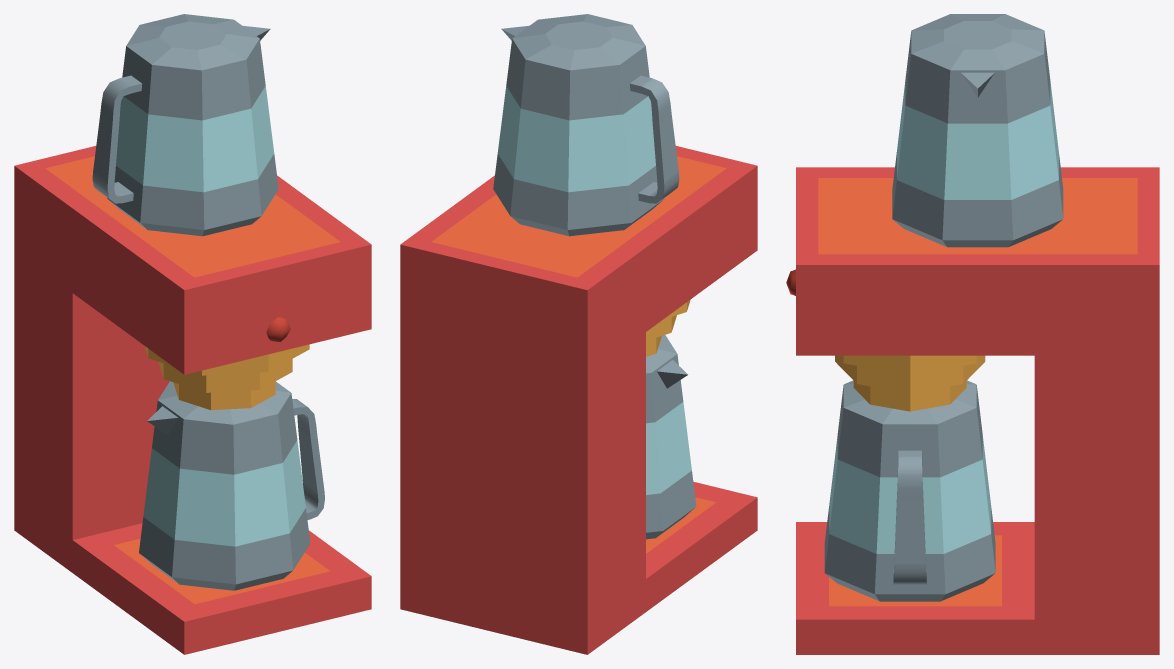
Rendered from Cafe Machine lv2.fbx.
3 renders of one model, left to right at view 1: azimuth 30°, elevation 25°; view 2: azimuth 150°, elevation 25°; view 3: azimuth 270°, elevation 25°, orthographic. The views are drawn at different scales.
Parts seen in each view (by area): view 1: Cafe_Machine_lv2; view 2: Cafe_Machine_lv2; view 3: Cafe_Machine_lv2.
Part boxes in pixels (left/top/right/bottom): Cafe_Machine_lv2: left=14, top=14, right=371, bottom=654; Cafe_Machine_lv2: left=400, top=14, right=757, bottom=654; Cafe_Machine_lv2: left=786, top=14, right=1159, bottom=654.
Bounding box in the file's own units: 56.59 × 154 × 91.44.
